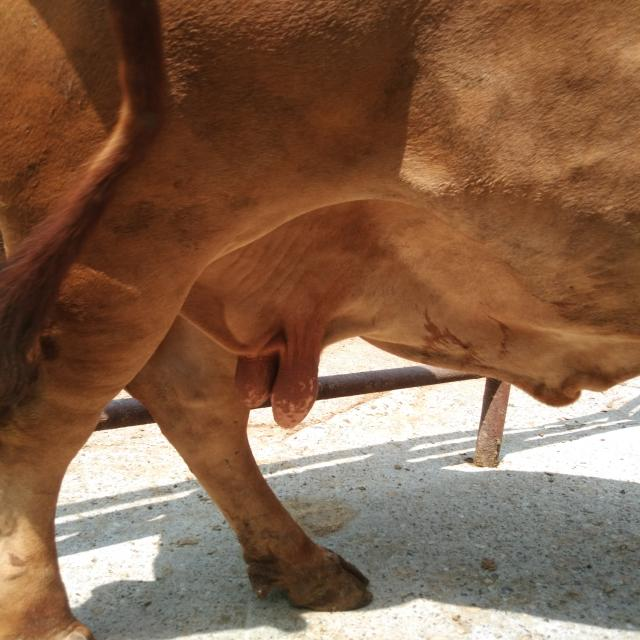Hoof: (246, 545, 374, 612)
